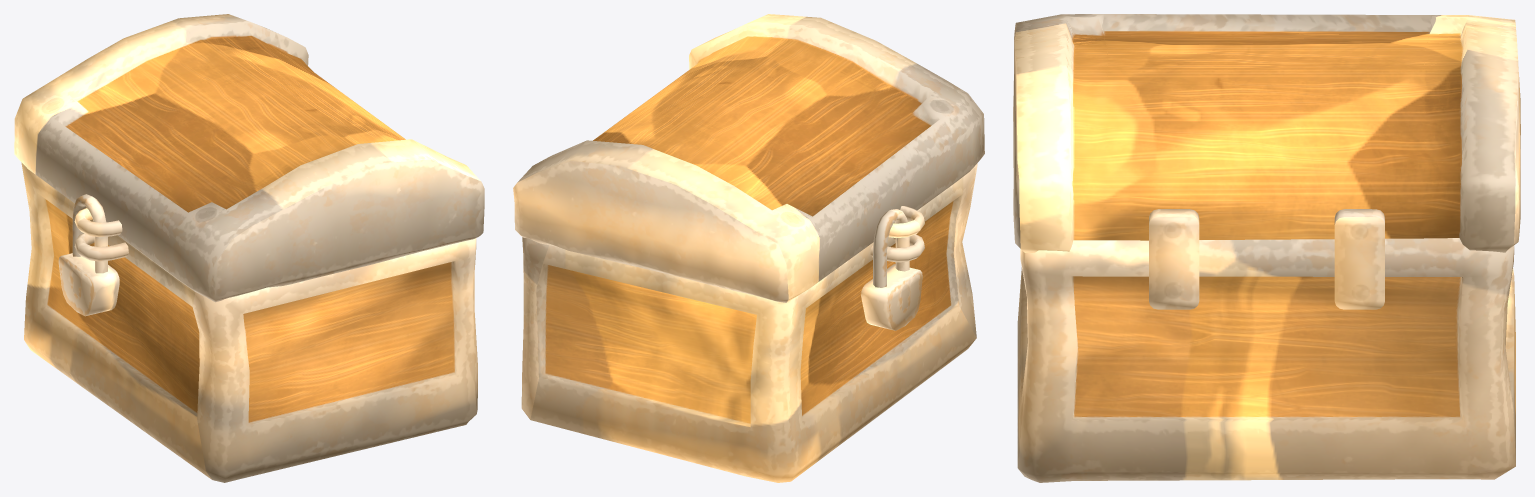
File: SM_Stylized_Chest.fbx
3 views of the same model, side by side, from view 1: azimuth 30°, elevation 25°; view 2: azimuth 150°, elevation 25°; view 3: azimuth 270°, elevation 25° (orthographic). The views are drawn at different scales.
Visible parts, largest first — view 1: SM_Stylized_Chest_LOD0; view 2: SM_Stylized_Chest_LOD0; view 3: SM_Stylized_Chest_LOD0.
Part boxes in pixels (left/top/right/bottom): SM_Stylized_Chest_LOD0: left=14, top=14, right=484, bottom=482; SM_Stylized_Chest_LOD0: left=513, top=14, right=984, bottom=482; SM_Stylized_Chest_LOD0: left=1013, top=14, right=1520, bottom=482.
Bounding box in the file's own units: 72.38 × 80.83 × 64.32.
